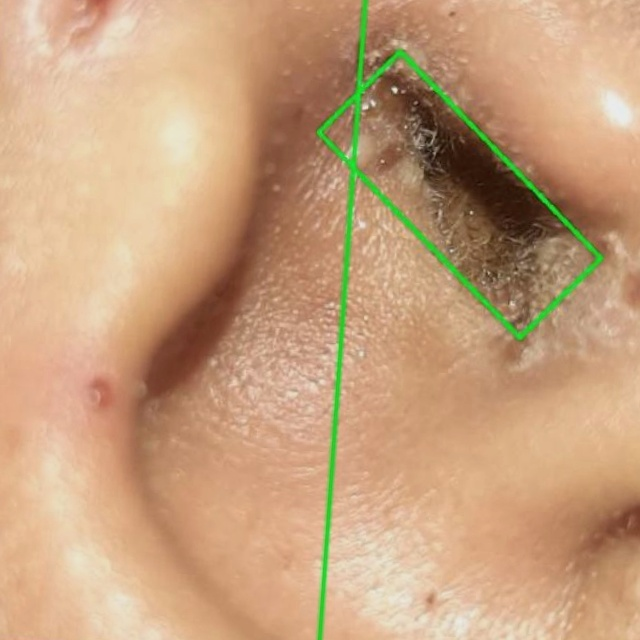Contact Dermatitis: (0, 0, 365, 639), (319, 51, 602, 337)
